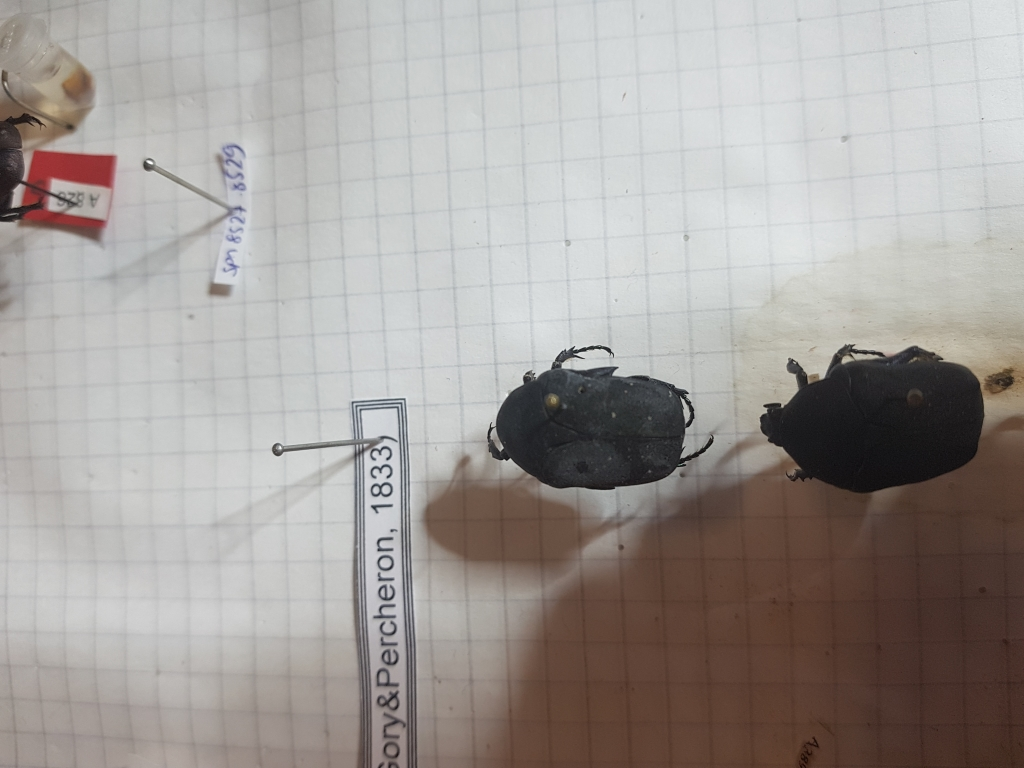Protaetia_afflicta: (754, 337, 988, 507), (483, 343, 721, 497)
